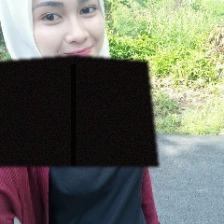Cadar_Niqab: (0, 0, 158, 166)
